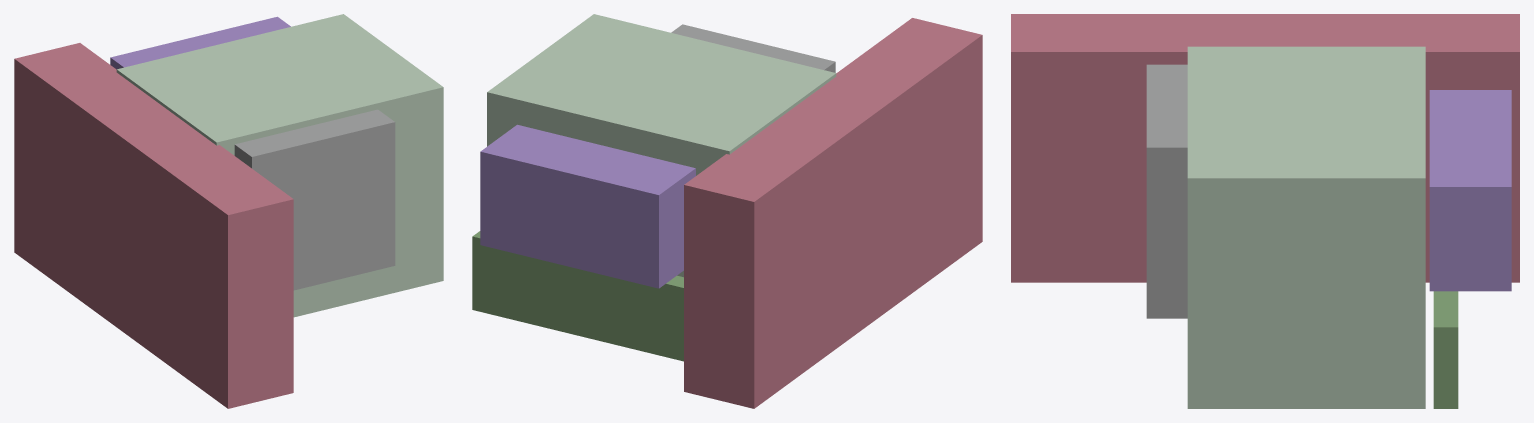
3 renders of one model, left to right at view 1: azimuth 30°, elevation 25°; view 2: azimuth 150°, elevation 25°; view 3: azimuth 270°, elevation 25°, orthographic. The views are drawn at different scales.
Visible parts, largest first — view 1: world; view 2: world; view 3: world.
Part boxes in pixels (x1,y1,x2,y2): world: (14, 14, 443, 408); world: (472, 14, 982, 408); world: (1011, 14, 1519, 408).
Bounding box in the file's own units: 4.85 × 3.15 × 6.2.
